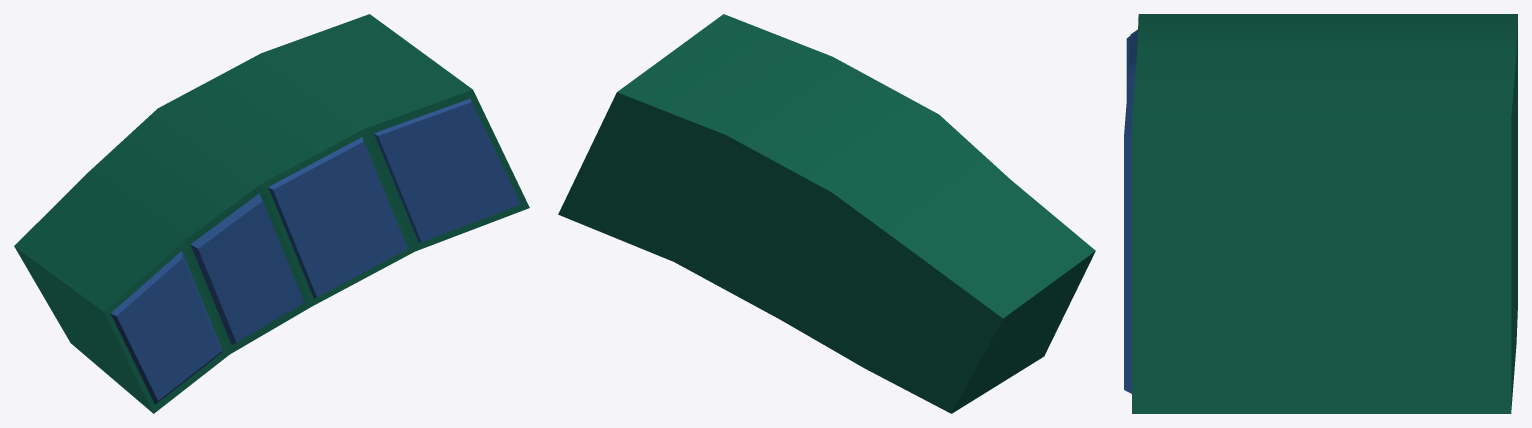
Rendered from bathroomcupboard_modern.fbx.
The picture shows the model from 3 angles, left to right: view 1: azimuth 30°, elevation 25°; view 2: azimuth 150°, elevation 25°; view 3: azimuth 270°, elevation 25°; orthographic projection. The views are drawn at different scales.
Parts seen in each view (by area): view 1: polySurface2, polySurface1, polySurface5, polySurface3, polySurface4; view 2: polySurface2; view 3: polySurface2, polySurface5.
Boxes of the visible parts, left/top/right/bottom form: polySurface2: left=14, top=14, right=529, bottom=413; polySurface1: left=268, top=137, right=407, bottom=298; polySurface5: left=374, top=98, right=520, bottom=242; polySurface3: left=190, top=193, right=304, bottom=344; polySurface4: left=110, top=251, right=222, bottom=404; polySurface2: left=558, top=14, right=1095, bottom=413; polySurface2: left=1132, top=14, right=1517, bottom=413; polySurface5: left=1124, top=72, right=1135, bottom=393.
Size of the model in its own units: 142 by 80.79 by 62.61.
